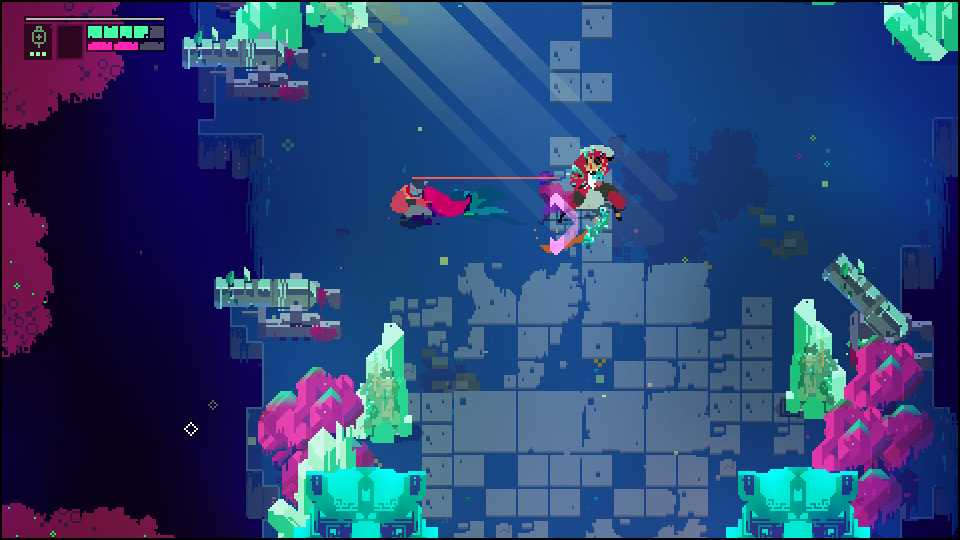hanged_man: (557, 143, 626, 251)
player: (386, 179, 435, 233)
